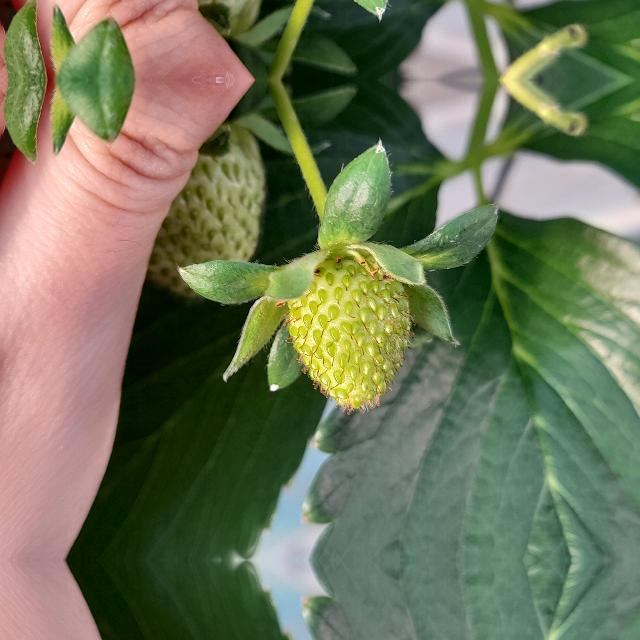Health_25: (282, 258, 416, 414)
